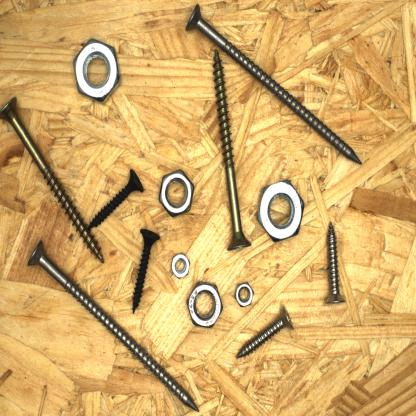screw: (25, 236, 201, 414), (182, 2, 364, 166), (0, 94, 105, 265), (211, 46, 253, 252), (86, 166, 145, 231), (234, 302, 297, 360), (130, 226, 162, 315), (323, 218, 346, 306)
